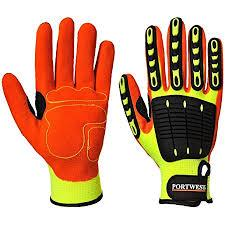gloves: (1, 16, 116, 208), (117, 15, 224, 208)
